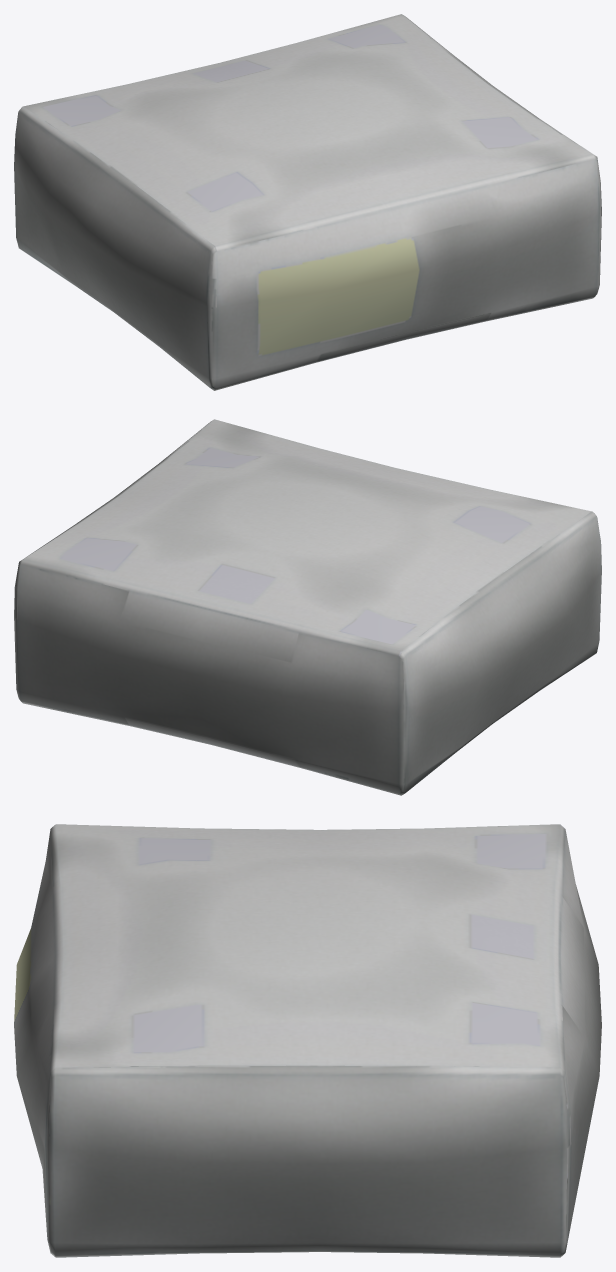
Rendered from Cloth_Container_Lo.fbx.
The picture shows the model from 3 angles, top to bottom: view 1: azimuth 30°, elevation 25°; view 2: azimuth 150°, elevation 25°; view 3: azimuth 270°, elevation 25°; orthographic projection. The views are drawn at different scales.
Visible parts, largest first — view 1: polySurface89; view 2: polySurface89; view 3: polySurface89.
Part boxes in pixels (<box>): polySurface89: <box>14,14,601,390</box>; polySurface89: <box>14,419,601,795</box>; polySurface89: <box>14,824,601,1257</box>.
Size of the model in its own units: 38.41 by 14.88 by 33.65.
